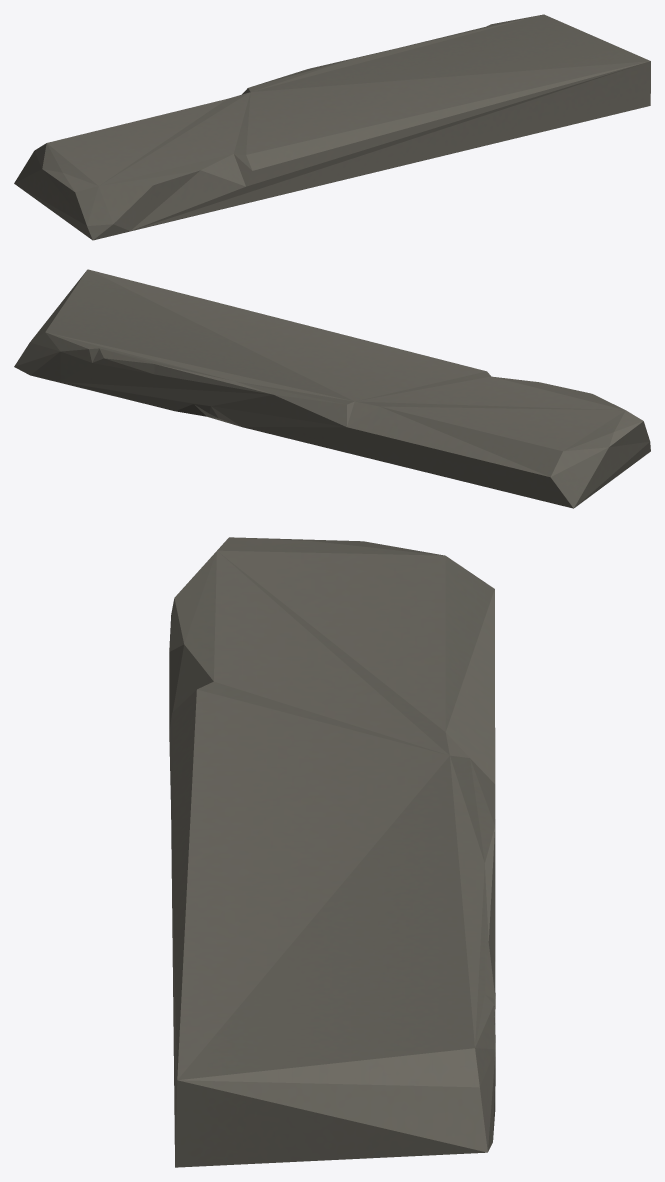
File: Stair_1.fbx
The picture shows the model from 3 angles, top to bottom: view 1: azimuth 30°, elevation 25°; view 2: azimuth 150°, elevation 25°; view 3: azimuth 270°, elevation 25°; orthographic projection. The views are drawn at different scales.
Visible parts, largest first — view 1: Group48178; view 2: Group48178; view 3: Group48178.
Boxes of the visible parts, x1,y1,x2,y2 form: Group48178: [14, 14, 650, 240]; Group48178: [14, 269, 650, 508]; Group48178: [169, 537, 495, 1167].
Size of the model in its own units: 598 by 44.97 by 150.
Materials: 1 (1 with a texture image).
